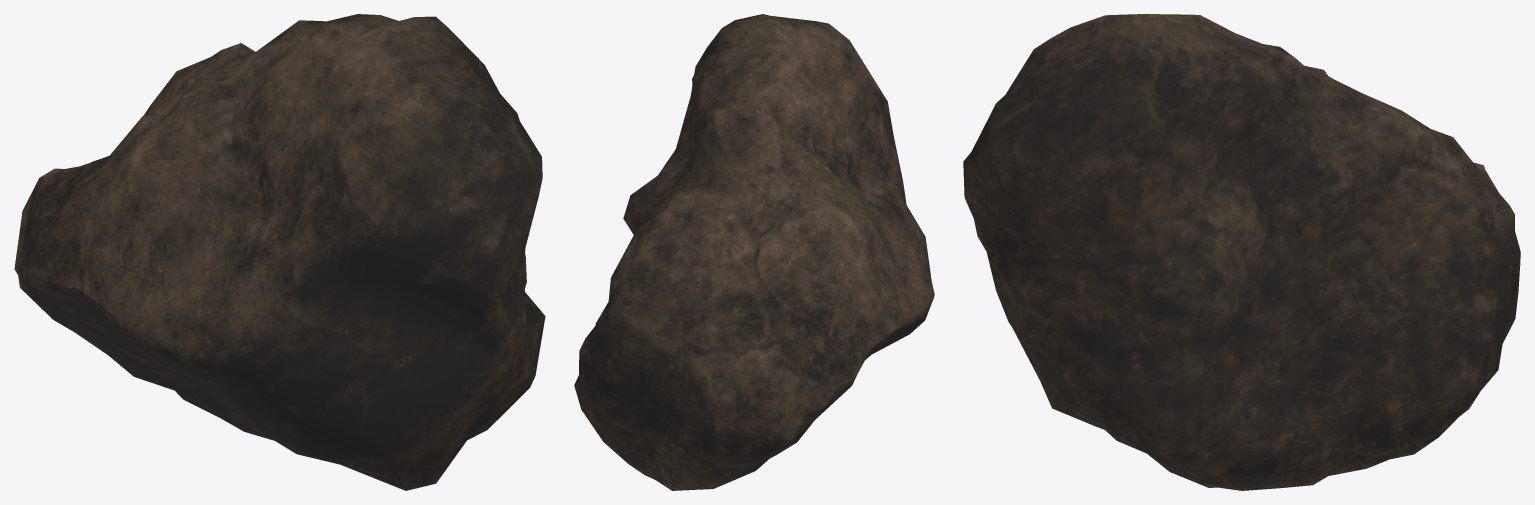
File: SM_RP2_Rock_8m_3.002.glb
3 views of the same model, side by side, from view 1: azimuth 30°, elevation 25°; view 2: azimuth 150°, elevation 25°; view 3: azimuth 270°, elevation 25° (orthographic). The views are drawn at different scales.
Visible parts, largest first — view 1: SM_RP2_Rock_8m_3.002; view 2: SM_RP2_Rock_8m_3.002; view 3: SM_RP2_Rock_8m_3.002.
Part boxes in pixels (bbox=[...]): SM_RP2_Rock_8m_3.002: bbox=[14, 14, 545, 490]; SM_RP2_Rock_8m_3.002: bbox=[574, 14, 934, 490]; SM_RP2_Rock_8m_3.002: bbox=[963, 14, 1520, 490].
Size of the model in its own units: 9.32 by 11.1 by 12.44.
Materials: 1 (1 with a texture image).
